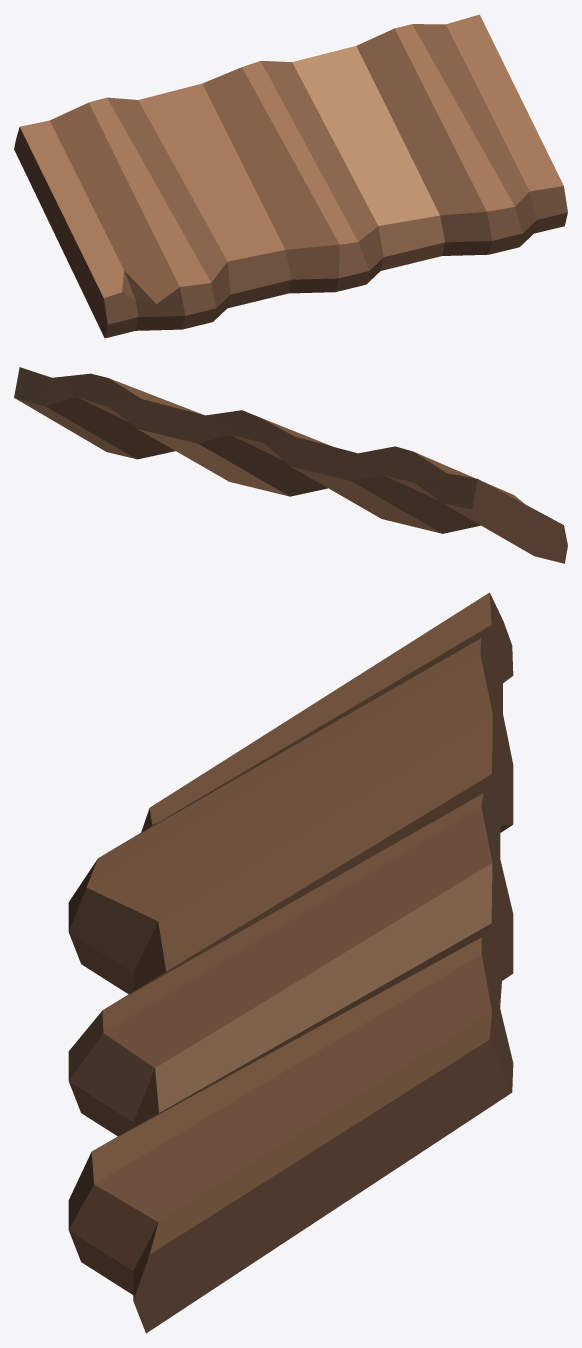
The model's file is SM_Bld_Roof_Manor_Edge_Half_Straight_01.fbx.
3 renders of one model, top to bottom at view 1: azimuth 30°, elevation 25°; view 2: azimuth 150°, elevation 25°; view 3: azimuth 270°, elevation 25°, orthographic. The views are drawn at different scales.
Parts seen in each view (by area): view 1: SM_Bld_Roof_Manor_Edge_Half_Straight_01; view 2: SM_Bld_Roof_Manor_Edge_Half_Straight_01; view 3: SM_Bld_Roof_Manor_Edge_Half_Straight_01.
Part boxes in pixels (x1,y1,x2,y2): SM_Bld_Roof_Manor_Edge_Half_Straight_01: [14, 14, 567, 338]; SM_Bld_Roof_Manor_Edge_Half_Straight_01: [14, 367, 567, 563]; SM_Bld_Roof_Manor_Edge_Half_Straight_01: [68, 592, 513, 1333].
Bounding box in the file's own units: 125 × 41.16 × 52.56.
